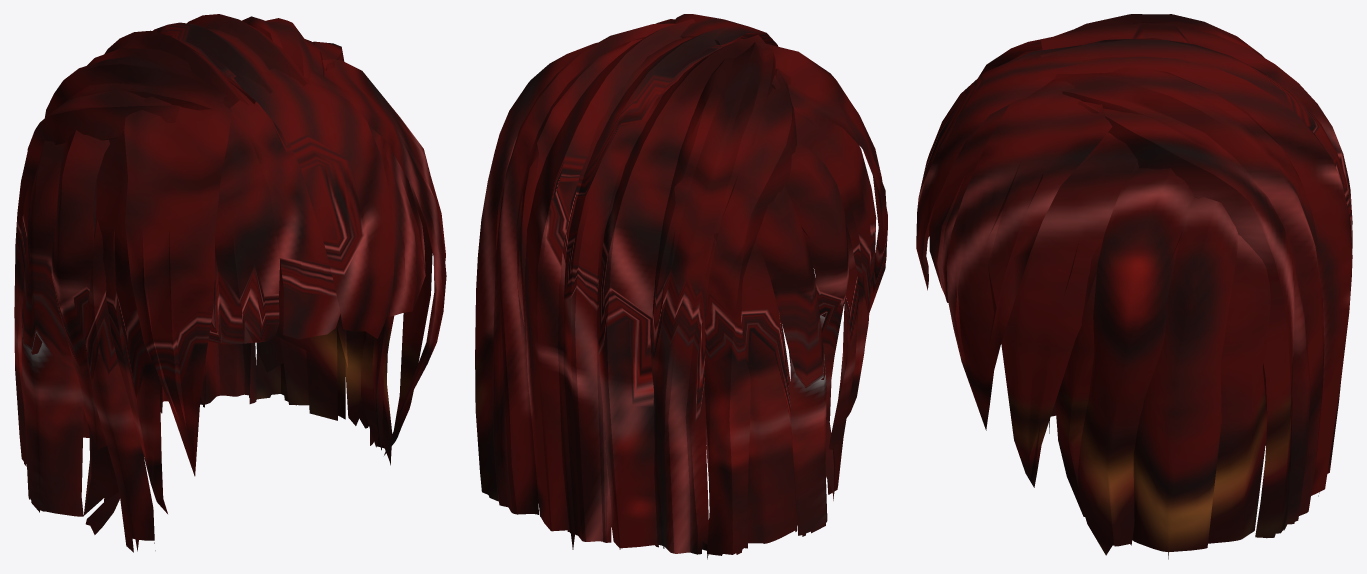
The model's file is pelo jazmin.fbx.
3 views of the same model, side by side, from view 1: azimuth 30°, elevation 25°; view 2: azimuth 150°, elevation 25°; view 3: azimuth 270°, elevation 25° (orthographic). The views are drawn at different scales.
Parts seen in each view (by area): view 1: pelo; view 2: pelo; view 3: pelo.
Part boxes in pixels (x1=…): pelo: x1=14, y1=14, x2=446, y2=552; pelo: x1=475, y1=14, x2=887, y2=559; pelo: x1=916, y1=14, x2=1352, y2=559.
Size of the model in its own units: 382 by 483 by 423.
